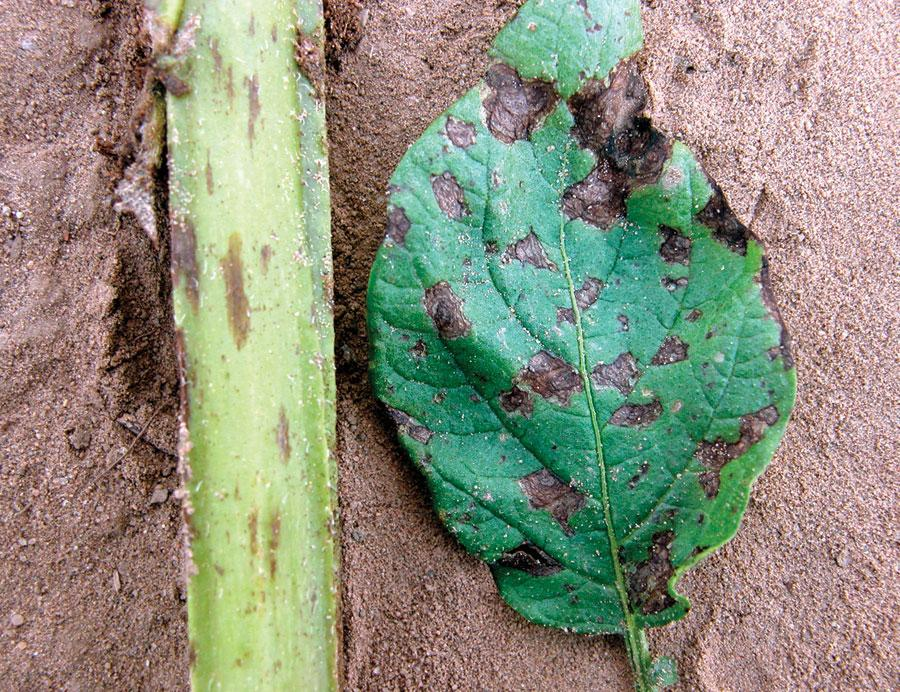Potato leaf late blight: (369, 2, 807, 650)
